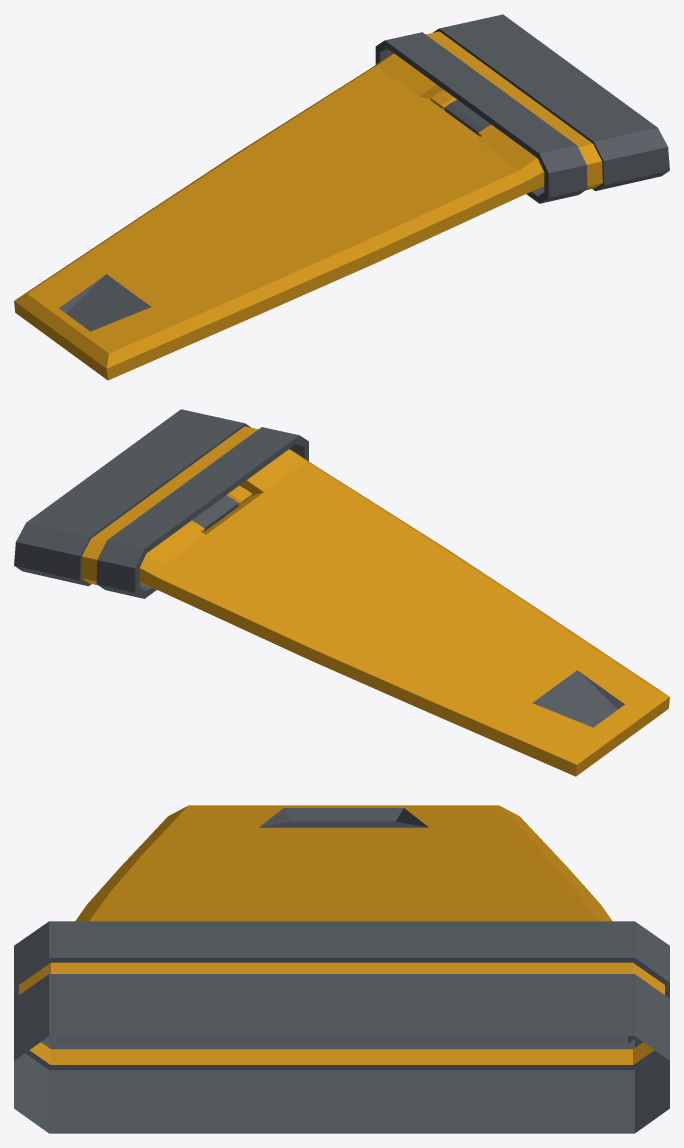
Rendered from Fighter_04_Frontal_Wing_Right_Yellow.fbx.
The picture shows the model from 3 angles, top to bottom: view 1: azimuth 30°, elevation 25°; view 2: azimuth 150°, elevation 25°; view 3: azimuth 270°, elevation 25°; orthographic projection. The views are drawn at different scales.
Visible parts, largest first — view 1: Fighter_04_Frontal_Wing_Right_Yellow; view 2: Fighter_04_Frontal_Wing_Right_Yellow; view 3: Fighter_04_Frontal_Wing_Right_Yellow.
Boxes of the visible parts, <box> form: Fighter_04_Frontal_Wing_Right_Yellow: <box>14,14,669,380</box>; Fighter_04_Frontal_Wing_Right_Yellow: <box>14,409,669,776</box>; Fighter_04_Frontal_Wing_Right_Yellow: <box>14,805,669,1133</box>.
Bounding box in the file's own units: 440 × 126 × 252.
1 material, 1 textured.
